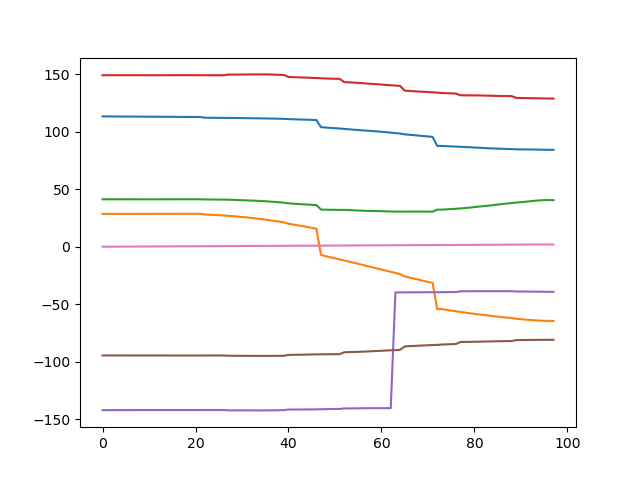Good_Bicep_Curl: (10, 12, 640, 480)
